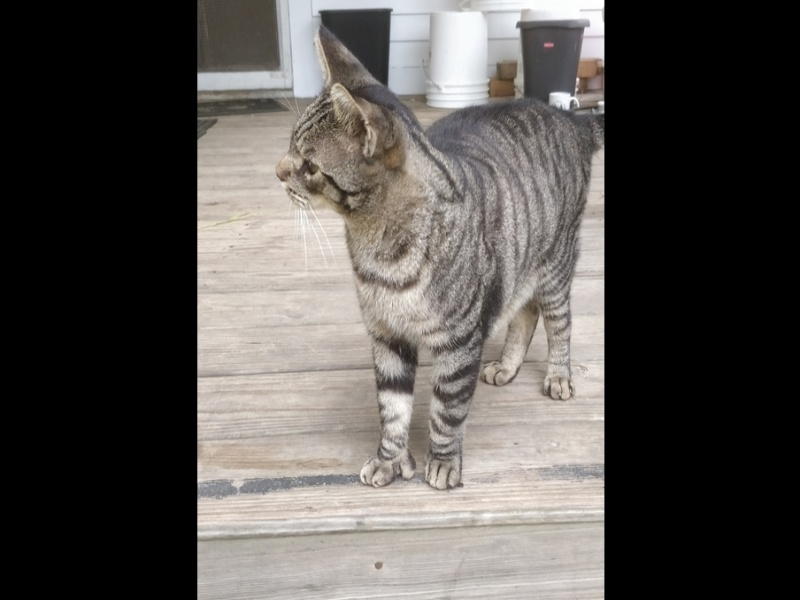cat: (273, 25, 606, 491)
